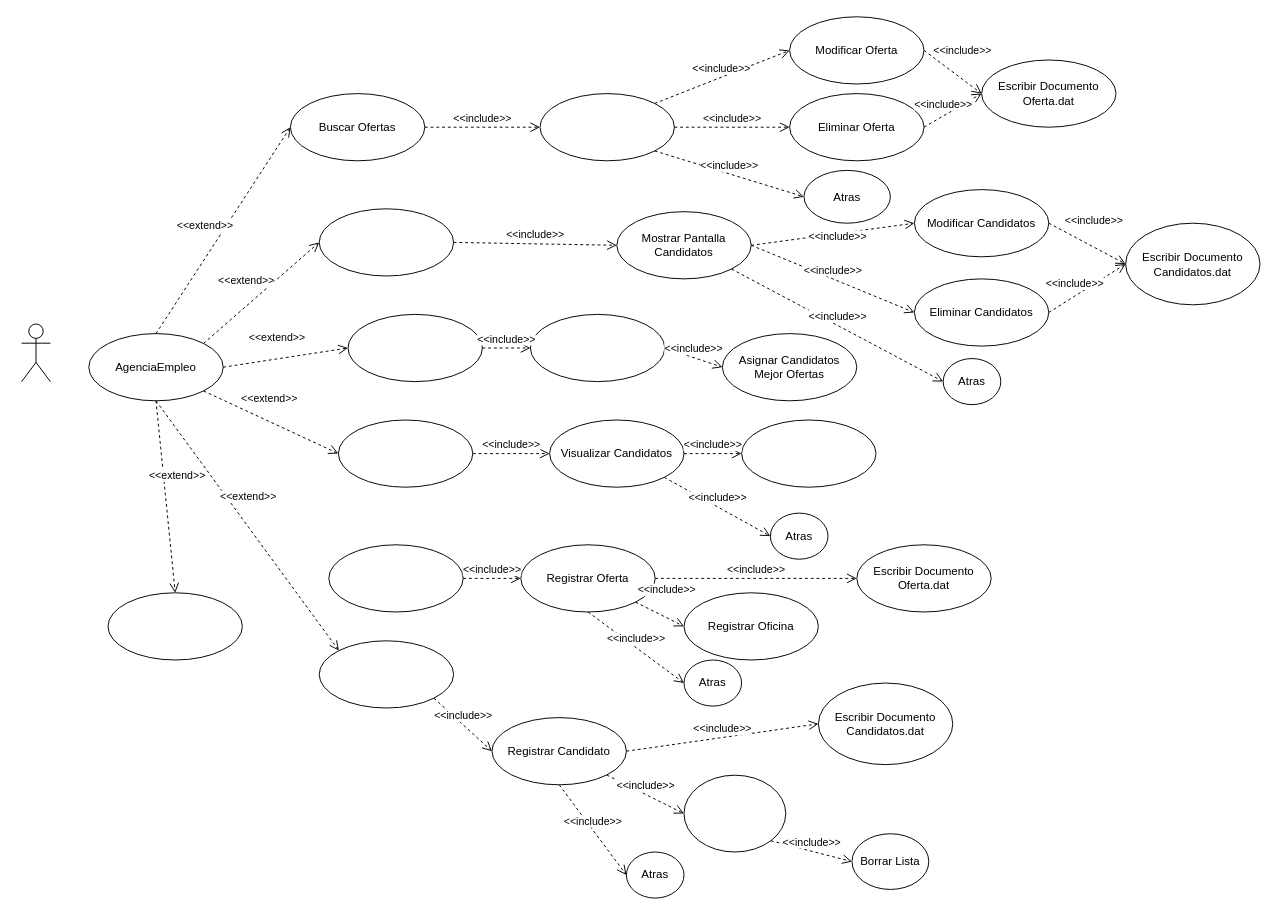
Image size: 1277x915. Some labels were removed from this diagram. The shapes that lost their labels are listed below. From the top down, each one's box as (x1, y1, x2, y2) in pixels, then its label:
(539, 93, 674, 161): Mostrar Pantalla Ofertas Empresas
(318, 208, 454, 276): Buscar Candidatos
(21, 323, 50, 382): Usuario
(347, 313, 482, 382): Asignar
(529, 313, 665, 382): Búsqueda Canditos
(337, 419, 473, 487): Candidatos
(741, 419, 876, 487): Imprimir
(328, 544, 463, 612): Nueva Oferta
(107, 592, 242, 660): Cerrar Sesion
(318, 640, 454, 708): Nuevo Candidato
(683, 774, 786, 852): Agregar Ocupaciones CNO
